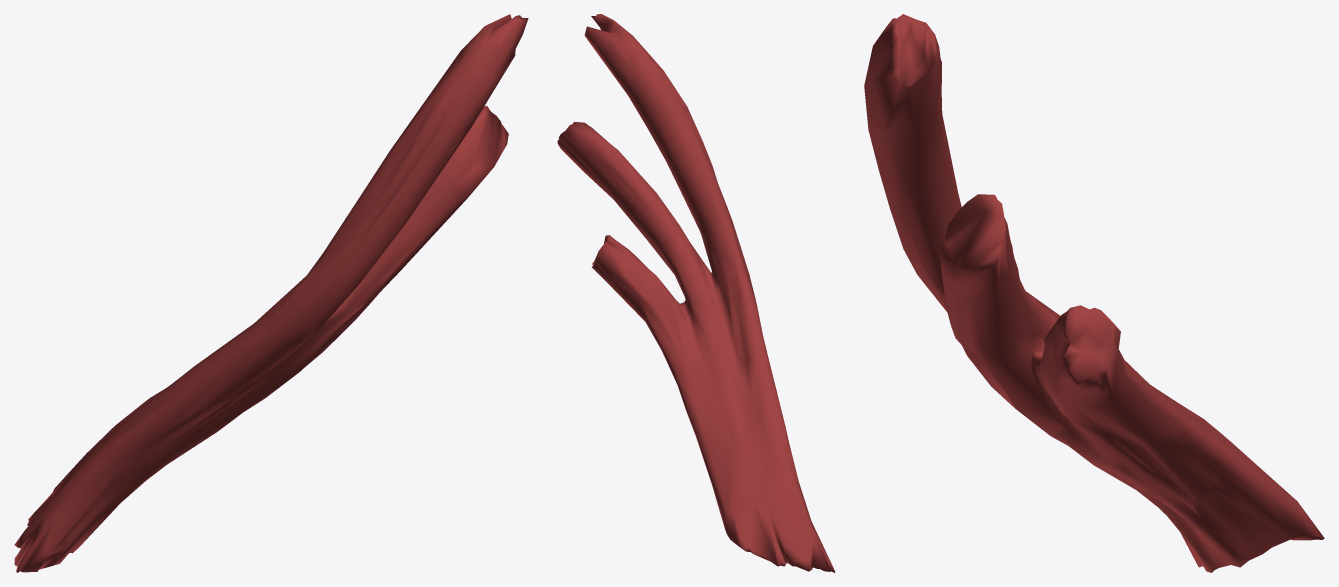
File: scalenus-posterior-muscle-r.glb
3 views of the same model, side by side, from view 1: azimuth 30°, elevation 25°; view 2: azimuth 150°, elevation 25°; view 3: azimuth 270°, elevation 25° (orthographic). The views are drawn at different scales.
Visible parts, largest first — view 1: Scalenus posterior muscle.r; view 2: Scalenus posterior muscle.r; view 3: Scalenus posterior muscle.r.
Part boxes in pixels (bbox=[...]): Scalenus posterior muscle.r: bbox=[14, 14, 528, 572]; Scalenus posterior muscle.r: bbox=[557, 14, 835, 572]; Scalenus posterior muscle.r: bbox=[864, 14, 1324, 572].
Size of the model in its own units: 0.0442 by 0.0536 by 0.0275.
